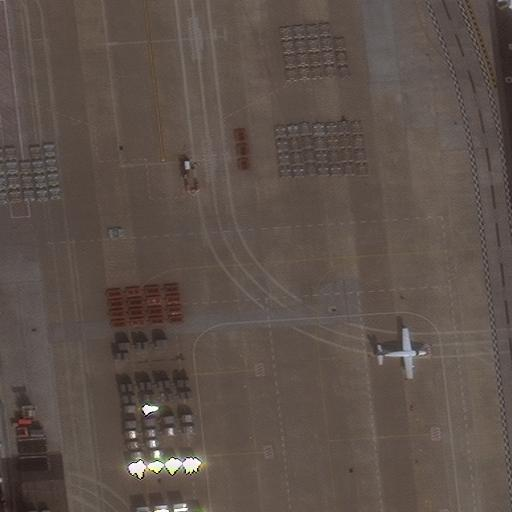Medium Civil Transport: (375, 327, 428, 379)
